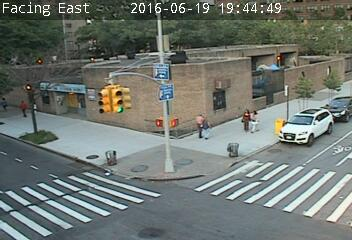neg: (233, 36, 257, 68), (301, 71, 324, 102), (50, 72, 71, 100), (31, 147, 51, 173), (67, 183, 86, 209), (223, 183, 242, 208), (293, 122, 311, 146), (293, 178, 311, 202), (137, 153, 154, 176), (221, 137, 238, 159), (164, 70, 181, 92), (170, 29, 187, 51), (134, 188, 150, 210), (192, 200, 208, 221), (178, 163, 194, 183), (107, 76, 122, 96), (99, 142, 113, 161), (46, 118, 60, 137), (32, 45, 45, 63), (275, 65, 288, 83), (92, 109, 104, 124), (92, 39, 102, 52)
pos: (190, 111, 211, 139), (234, 106, 253, 132), (15, 96, 32, 119), (249, 109, 263, 128), (1, 93, 15, 111)
